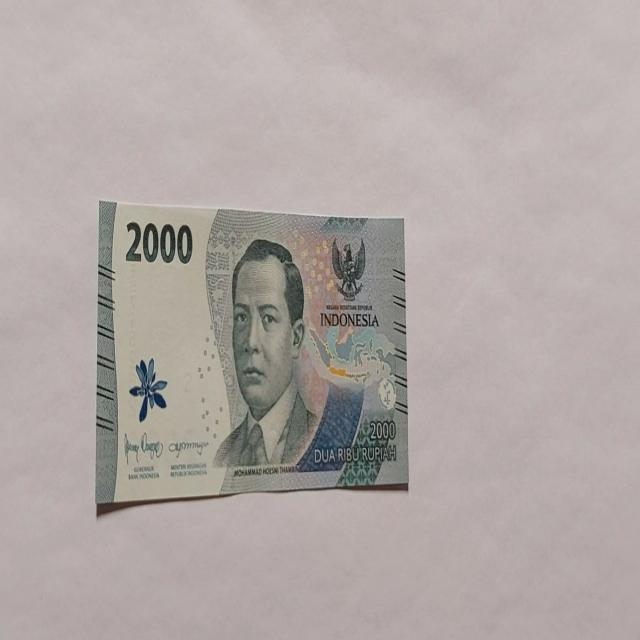dua ribu rupiah: (95, 199, 408, 510), (212, 237, 321, 471)
